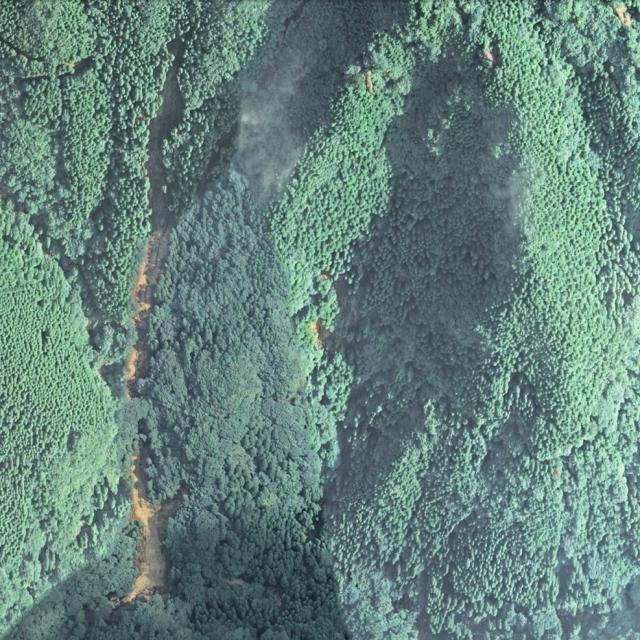landslide: (124, 39, 184, 399), (121, 454, 165, 604)
